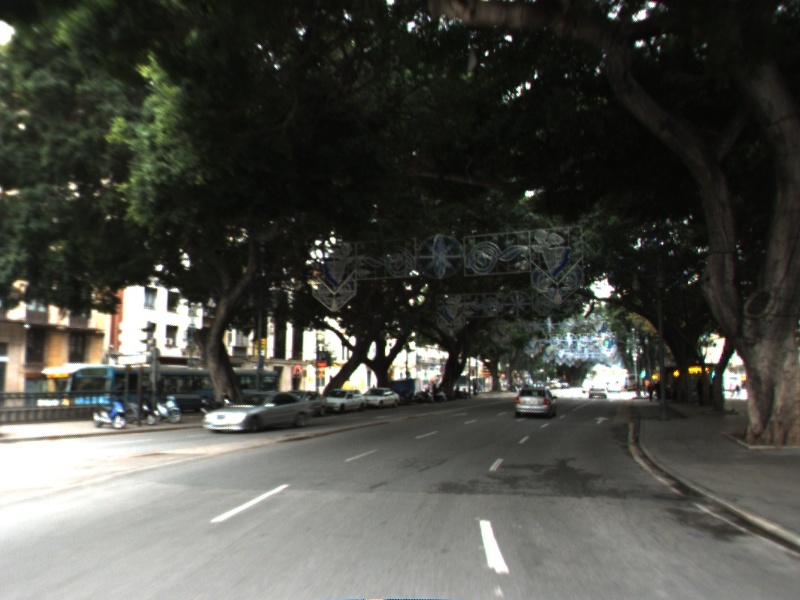STRAIGHT: (591, 414, 612, 426)
